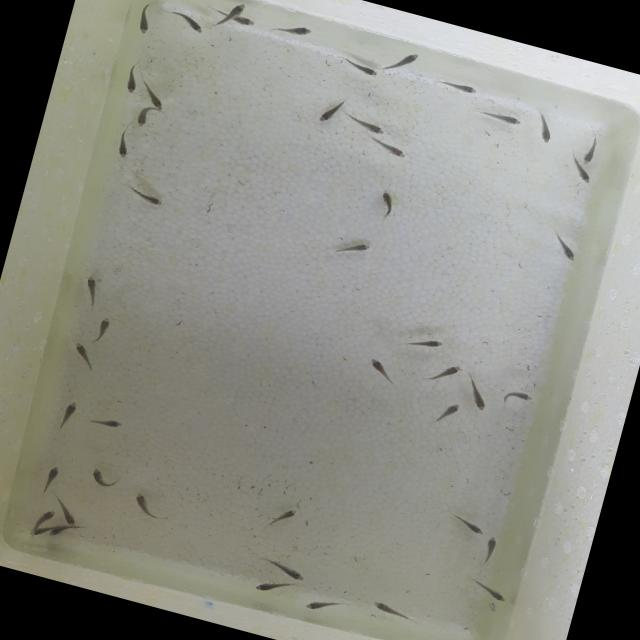fingerling: (126, 488, 176, 524), (256, 500, 298, 539), (431, 68, 482, 100), (403, 326, 451, 358), (458, 374, 494, 415), (84, 409, 131, 439), (334, 230, 377, 262), (368, 598, 420, 624), (444, 510, 489, 540), (466, 575, 512, 604), (477, 104, 527, 130), (50, 395, 84, 433), (36, 457, 66, 498), (136, 80, 172, 114), (263, 558, 309, 584), (430, 397, 464, 432), (341, 54, 384, 81), (77, 272, 107, 310), (496, 385, 534, 414), (85, 466, 124, 494), (117, 59, 145, 98), (66, 340, 98, 374), (574, 132, 604, 168), (348, 116, 392, 140), (126, 185, 168, 210), (216, 1, 252, 30), (427, 357, 463, 386), (362, 356, 398, 384), (478, 534, 505, 571), (56, 499, 90, 528), (87, 312, 115, 347), (548, 233, 580, 262), (301, 594, 339, 618), (315, 96, 344, 127), (178, 11, 212, 37), (386, 47, 418, 74), (530, 110, 556, 142), (280, 19, 316, 41), (569, 158, 597, 186), (134, 2, 157, 36), (252, 578, 286, 600), (374, 140, 408, 162), (112, 131, 135, 161), (128, 107, 154, 131), (376, 190, 398, 217), (23, 522, 47, 542), (43, 522, 64, 542), (35, 504, 57, 523), (236, 15, 258, 31)
